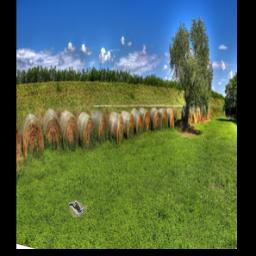Swallow: (69, 201, 88, 218)
